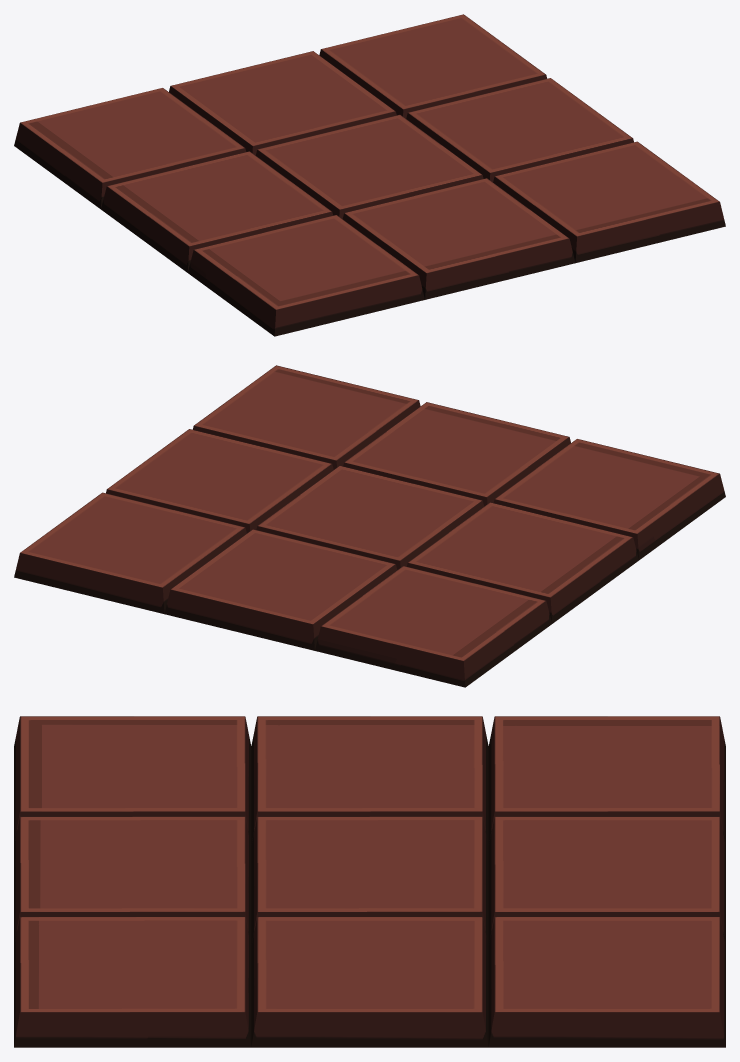
Rendered from board3.fbx.
3 renders of one model, top to bottom at view 1: azimuth 30°, elevation 25°; view 2: azimuth 150°, elevation 25°; view 3: azimuth 270°, elevation 25°, orthographic. The views are drawn at different scales.
Visible parts, largest first — view 1: Object002; view 2: Object002; view 3: Object002.
Part boxes in pixels (x1,y1,x2,y2): Object002: (14, 14, 725, 336); Object002: (14, 365, 725, 687); Object002: (14, 716, 725, 1047).
Bounding box in the file's own units: 48.63 × 2.47 × 48.63.
1 material, 1 textured.
